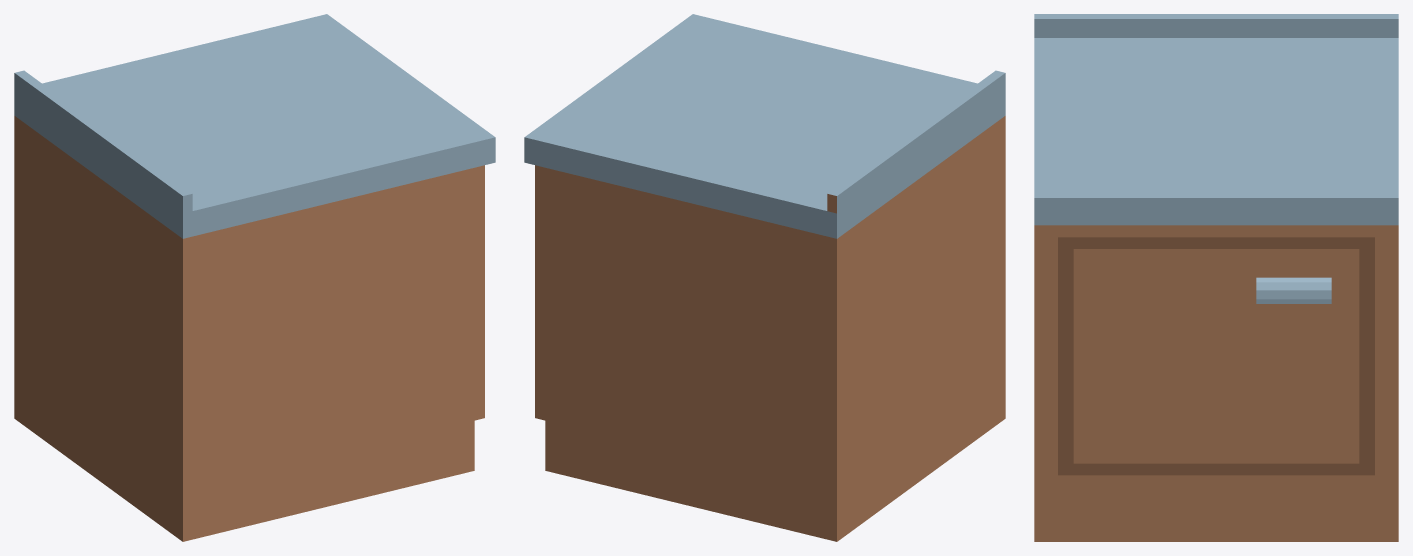
Rendered from kitchenCabinet.fbx.
3 renders of one model, left to right at view 1: azimuth 30°, elevation 25°; view 2: azimuth 150°, elevation 25°; view 3: azimuth 270°, elevation 25°, orthographic. The views are drawn at different scales.
Parts seen in each view (by area): view 1: Cube; view 2: Cube; view 3: Cube, Cube.001.
Part boxes in pixels (<box>): Cube: <box>14,14,495,541</box>; Cube: <box>524,14,1005,541</box>; Cube: <box>1034,14,1398,541</box>; Cube.001: <box>1256,277,1331,303</box>.
Size of the model in its own units: 715 by 756 by 668.
